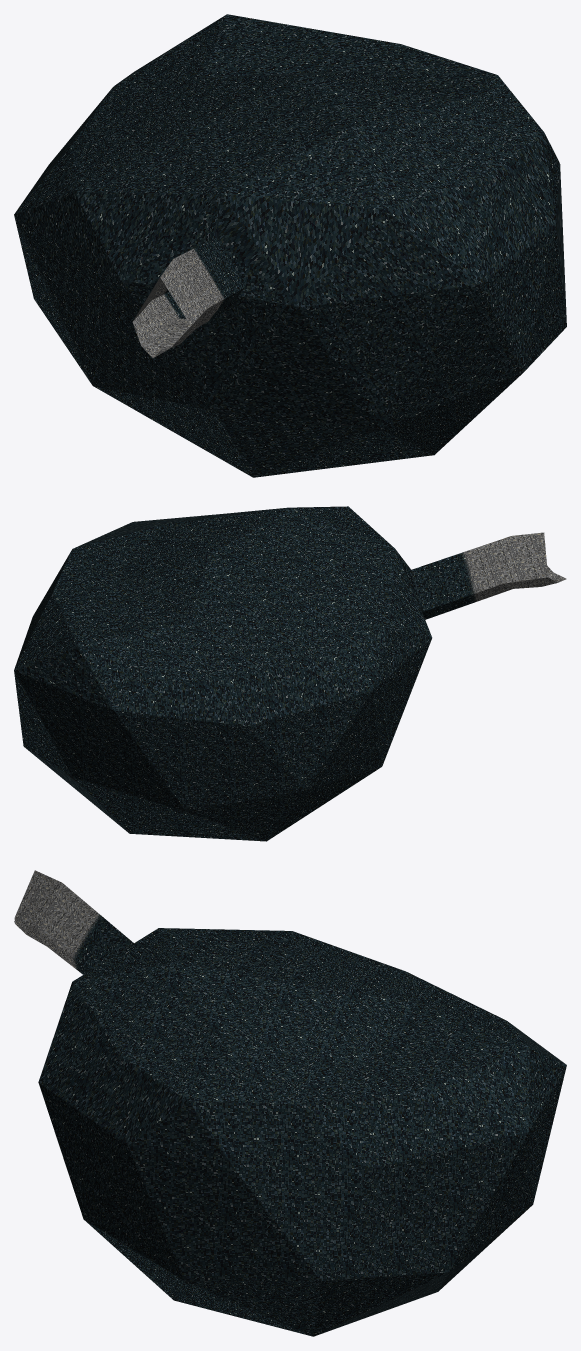
Rendered from testcave.glb.
3 renders of one model, top to bottom at view 1: azimuth 30°, elevation 25°; view 2: azimuth 150°, elevation 25°; view 3: azimuth 270°, elevation 25°, orthographic. The views are drawn at different scales.
Visible parts, largest first — view 1: cave; view 2: cave; view 3: cave.
Part boxes in pixels (x1=…): cave: x1=14, y1=14, x2=566, y2=477; cave: x1=14, y1=506, x2=566, y2=841; cave: x1=14, y1=870, x2=566, y2=1336.
Size of the model in its own units: 114 by 76.77 by 114.
Materials: 1 (1 with a texture image).
